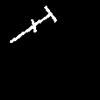double_crochet: (10, 6, 56, 42)
